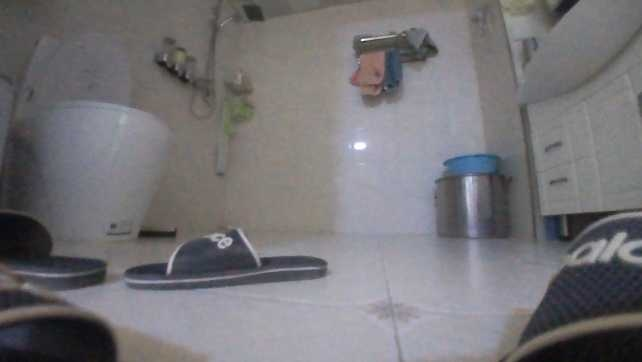slipper: (120, 222, 328, 290), (0, 207, 108, 290)
toilet: (0, 27, 177, 247)
